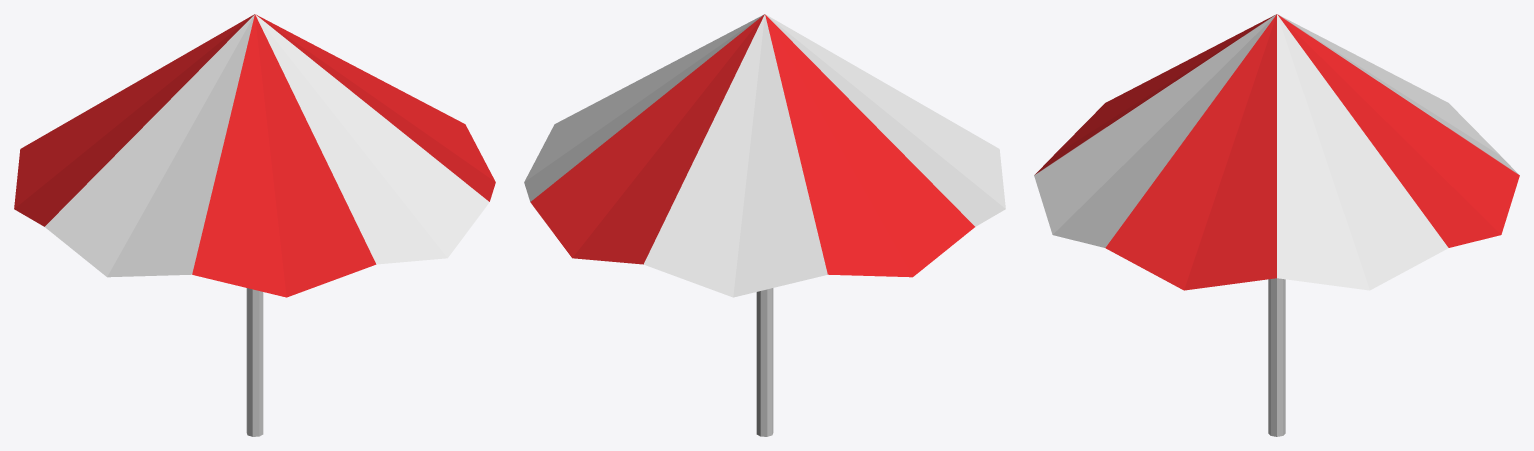
Rendered from BeachParasol.fbx.
3 renders of one model, left to right at view 1: azimuth 30°, elevation 25°; view 2: azimuth 150°, elevation 25°; view 3: azimuth 270°, elevation 25°, orthographic.
Parts seen in each view (by area): view 1: Cone, Cylinder; view 2: Cone, Cylinder; view 3: Cone, Cylinder.
Part boxes in pixels (x1,y1,x2,y2): Cone: (14,14,495,297); Cylinder: (246,288,263,436); Cone: (524,14,1005,297); Cylinder: (756,288,773,436); Cone: (1034,14,1519,290); Cylinder: (1268,278,1285,436).
Size of the model in its own units: 338 by 322 by 338.
